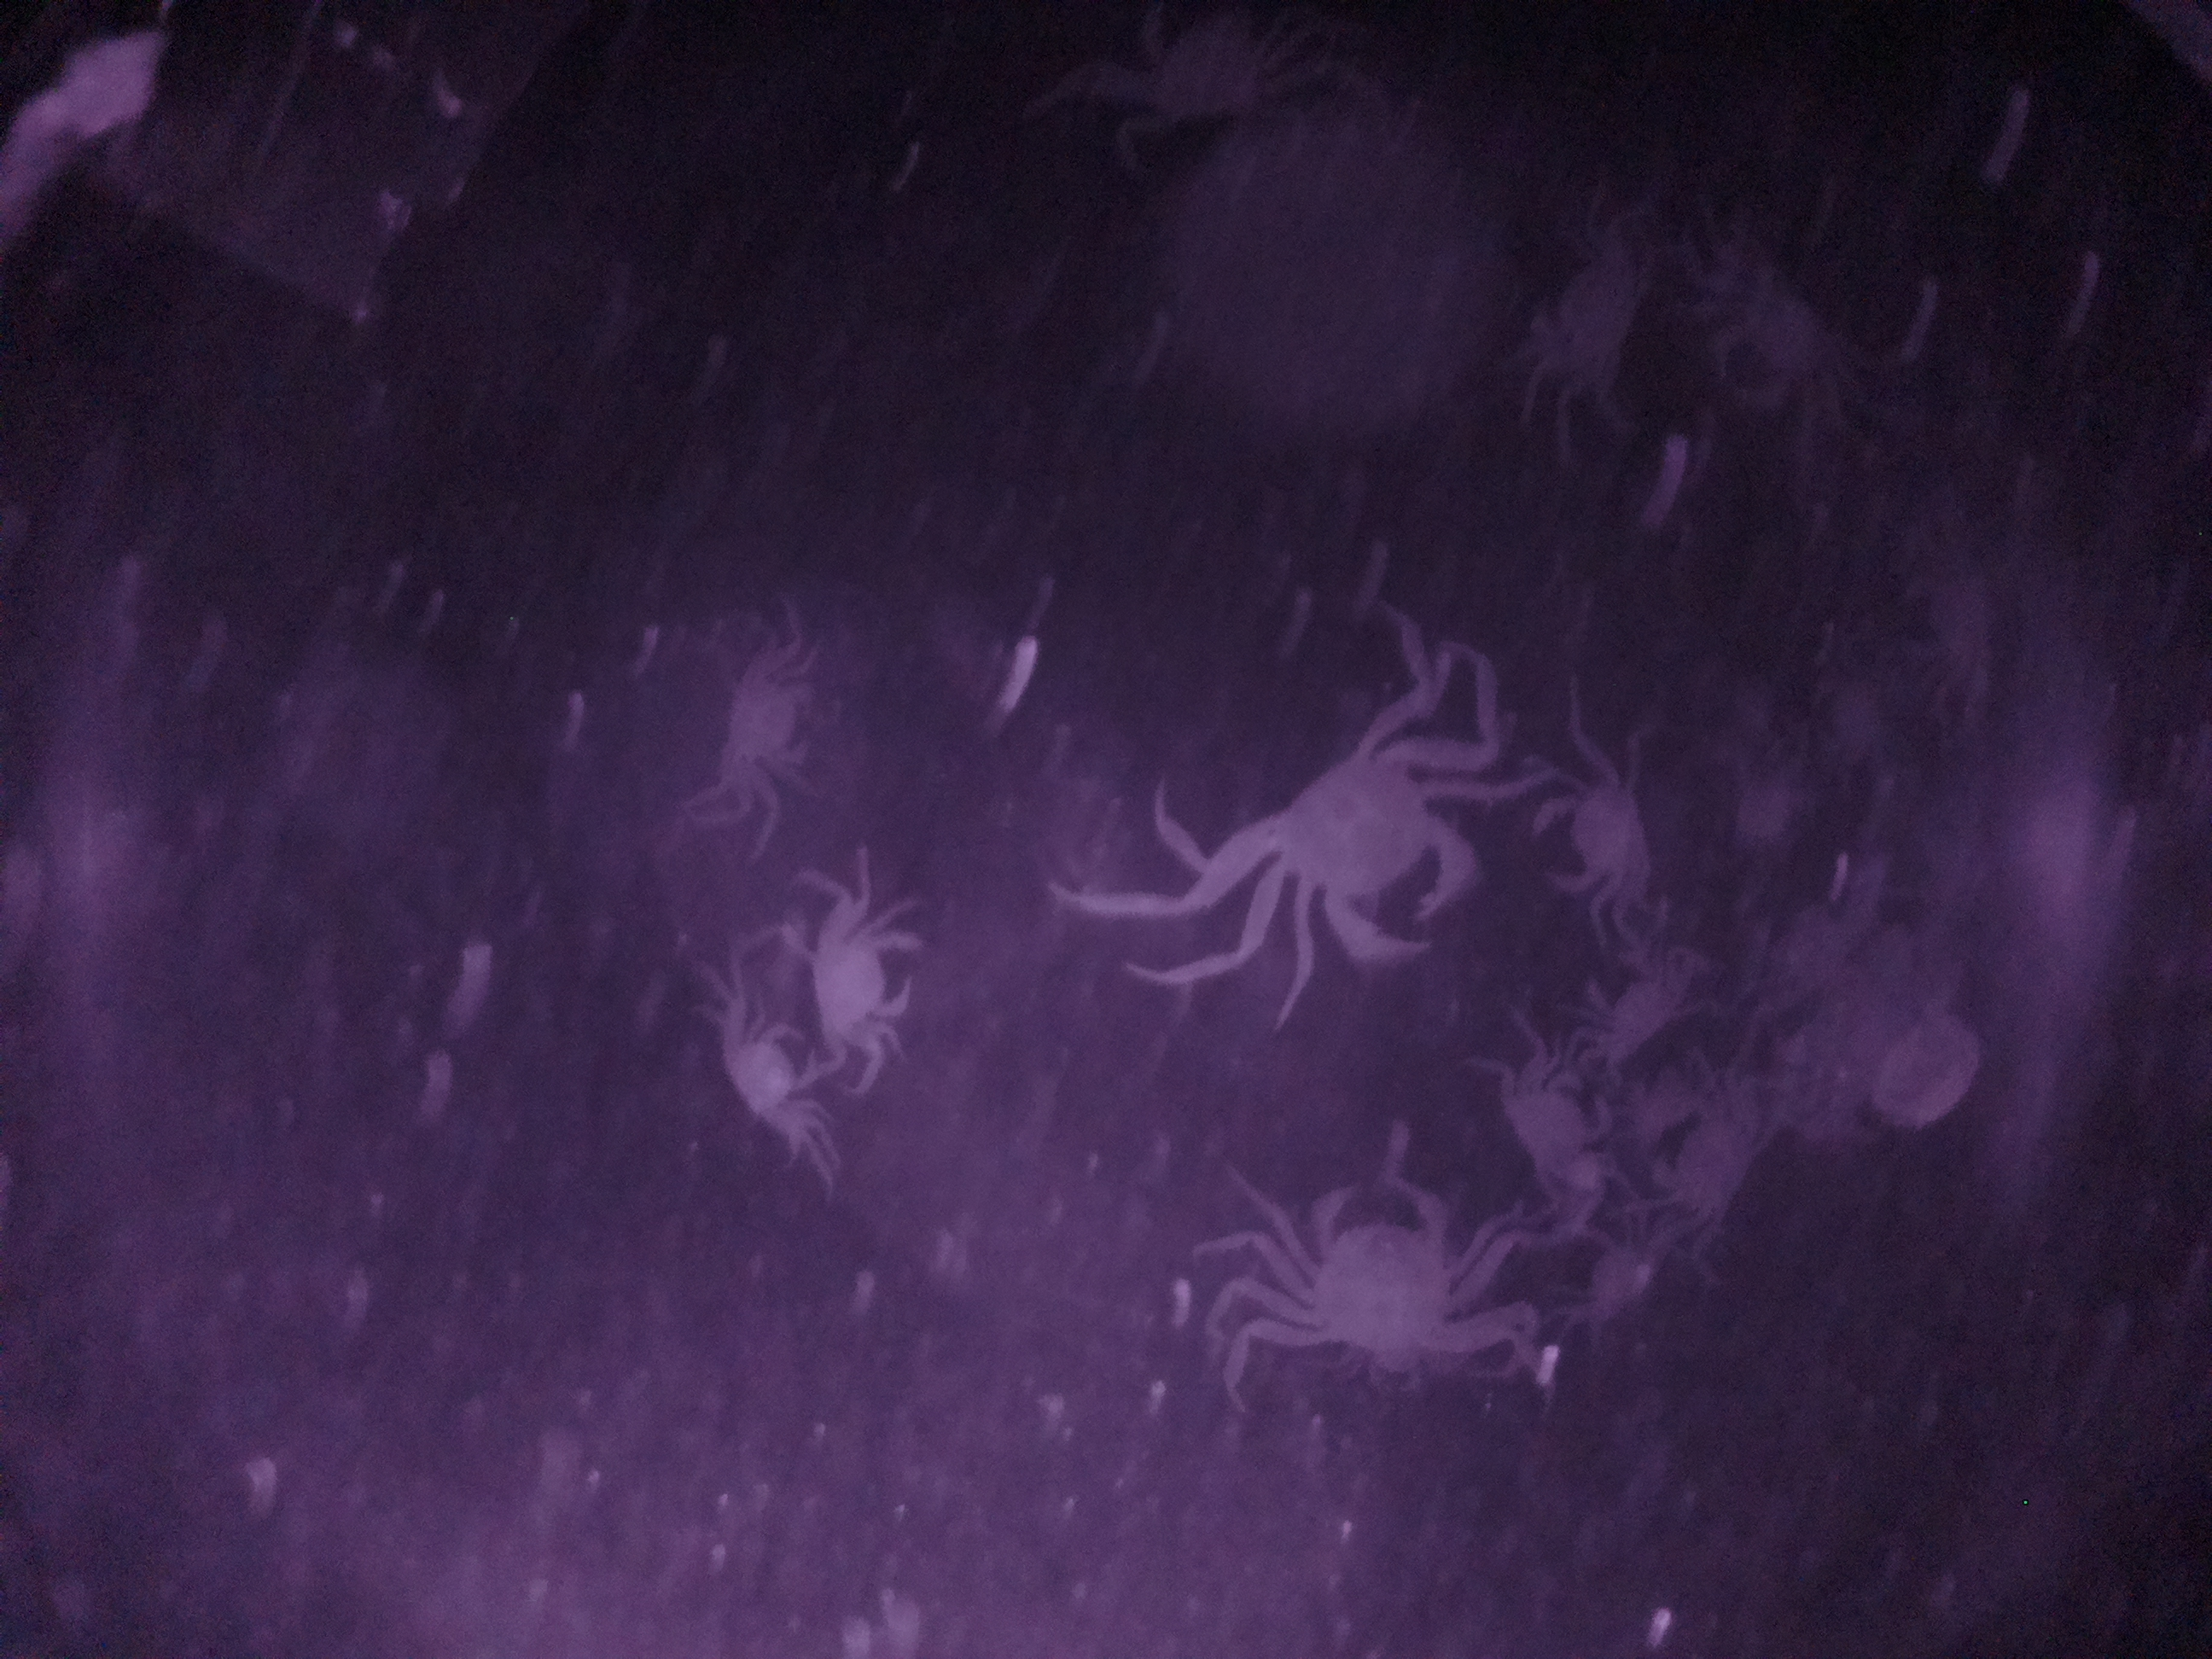Crab: (1237, 713, 1493, 995), (1256, 1169, 1489, 1378), (1689, 227, 1885, 425), (1642, 1056, 1778, 1248), (711, 965, 831, 1169), (1479, 1054, 1630, 1215), (792, 896, 928, 1065), (1527, 755, 1662, 924), (718, 636, 822, 826)
